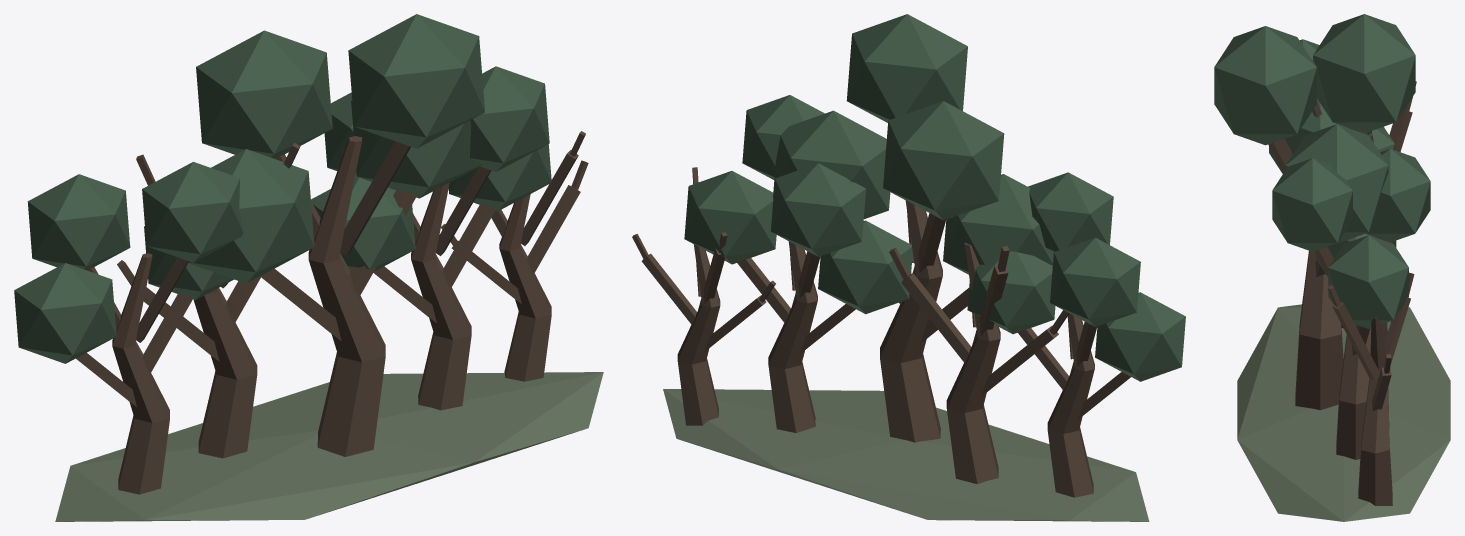
The model's file is HauntedWoods_ForestBackdrop_Simple.glb.
3 views of the same model, side by side, from view 1: azimuth 30°, elevation 25°; view 2: azimuth 150°, elevation 25°; view 3: azimuth 270°, elevation 25° (orthographic). The views are drawn at different scales.
Parts seen in each view (by area): view 1: HauntedWoods_ForestBackdrop_Simple; view 2: HauntedWoods_ForestBackdrop_Simple; view 3: HauntedWoods_ForestBackdrop_Simple.
Boxes of the visible parts, bbox=[...] form: HauntedWoods_ForestBackdrop_Simple: bbox=[14, 14, 603, 521]; HauntedWoods_ForestBackdrop_Simple: bbox=[632, 14, 1185, 521]; HauntedWoods_ForestBackdrop_Simple: bbox=[1214, 14, 1450, 521].
Bounding box in the file's own units: 15.5 × 11.79 × 6.03.
